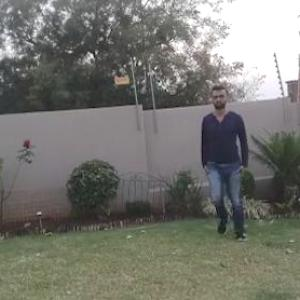follow: (199, 85, 248, 234)
